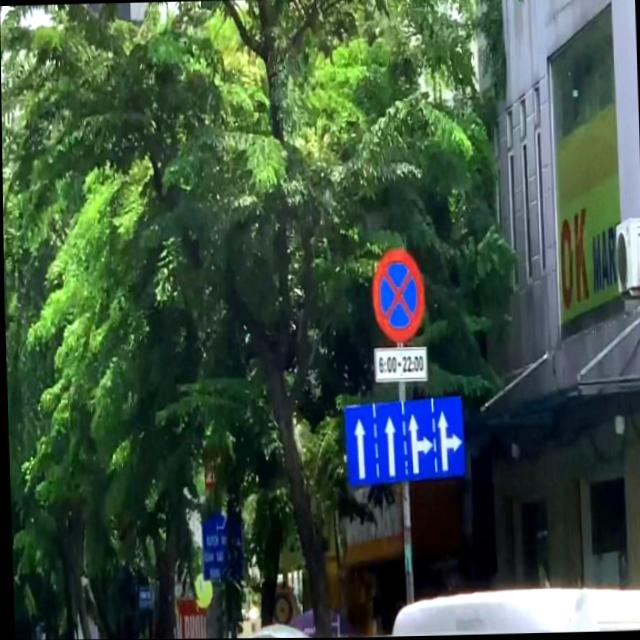Cam dung xe va do xe: (368, 248, 425, 344)
